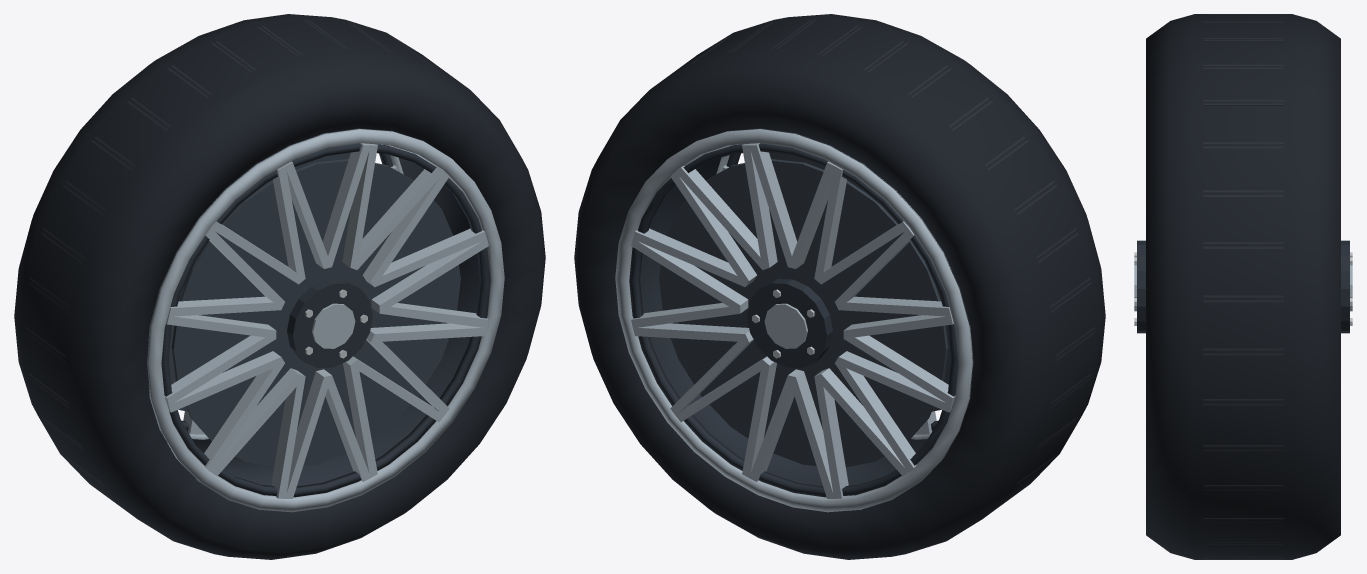
3 renders of one model, left to right at view 1: azimuth 30°, elevation 25°; view 2: azimuth 150°, elevation 25°; view 3: azimuth 270°, elevation 25°, orthographic.
Parts seen in each view (by area): view 1: wheel; view 2: wheel; view 3: wheel.
Part boxes in pixels (box(x1,y1,x2,y2)): wheel: box(14, 14, 545, 559); wheel: box(574, 14, 1105, 559); wheel: box(1134, 14, 1352, 559).
Bounding box in the file's own units: 2 × 2 × 0.8.
